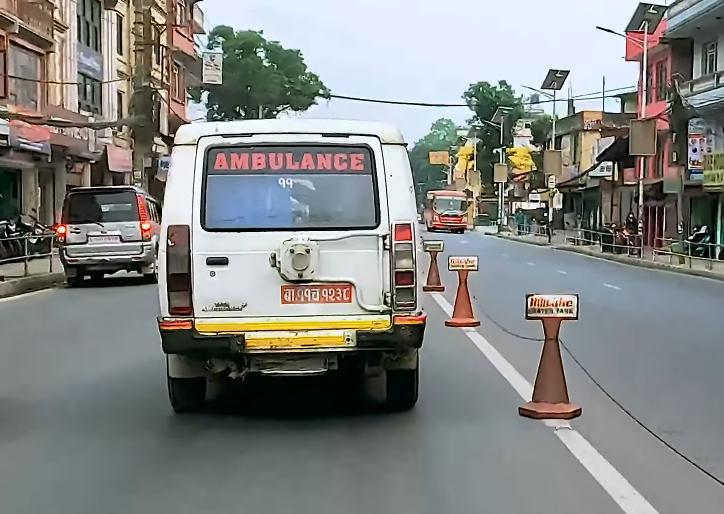SUV: (53, 180, 163, 283)
ambulance: (158, 106, 435, 418)
bus: (423, 187, 471, 236)
